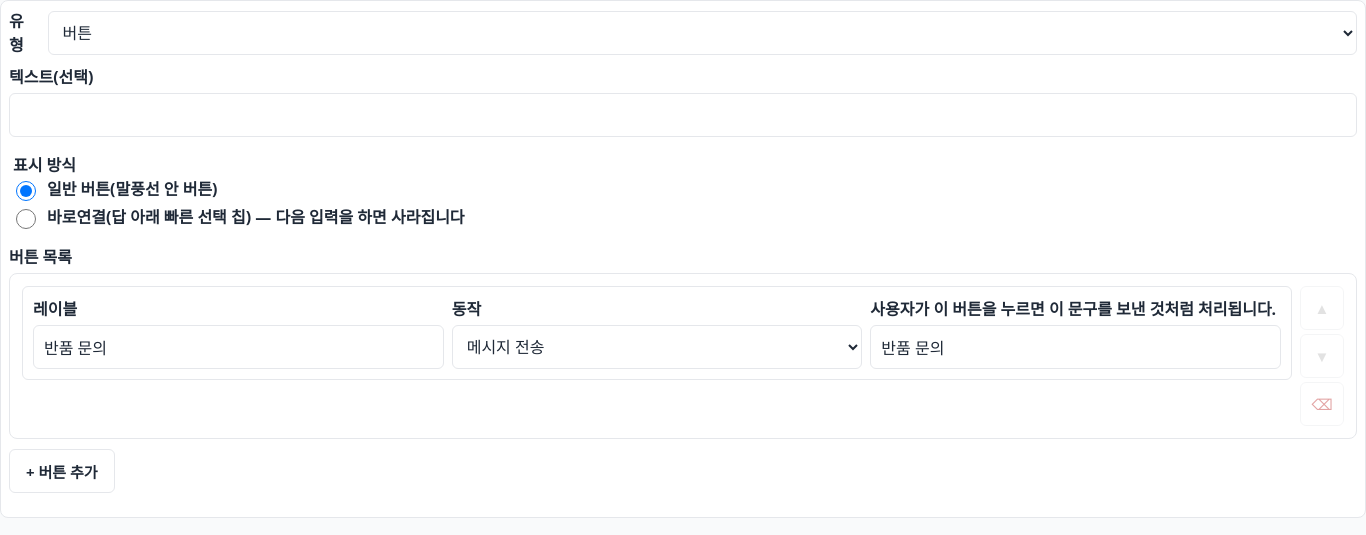
Test case: DialogOutputEditor — BUTTON 표시 방식(RM-2, 바로연결) › 바로연결을 선택하면 payload.display가 QUICK_REPLY로 바뀌고 LINK 옵션이 비활성된다
The width and height of the screenshot is (1366, 535).
Click the radio button labelled "바로연결(답 아래 빠른 선택 칩) — 다음 입력을 하면 사라집니다" at (26, 218), box 16,208 -> 36,228
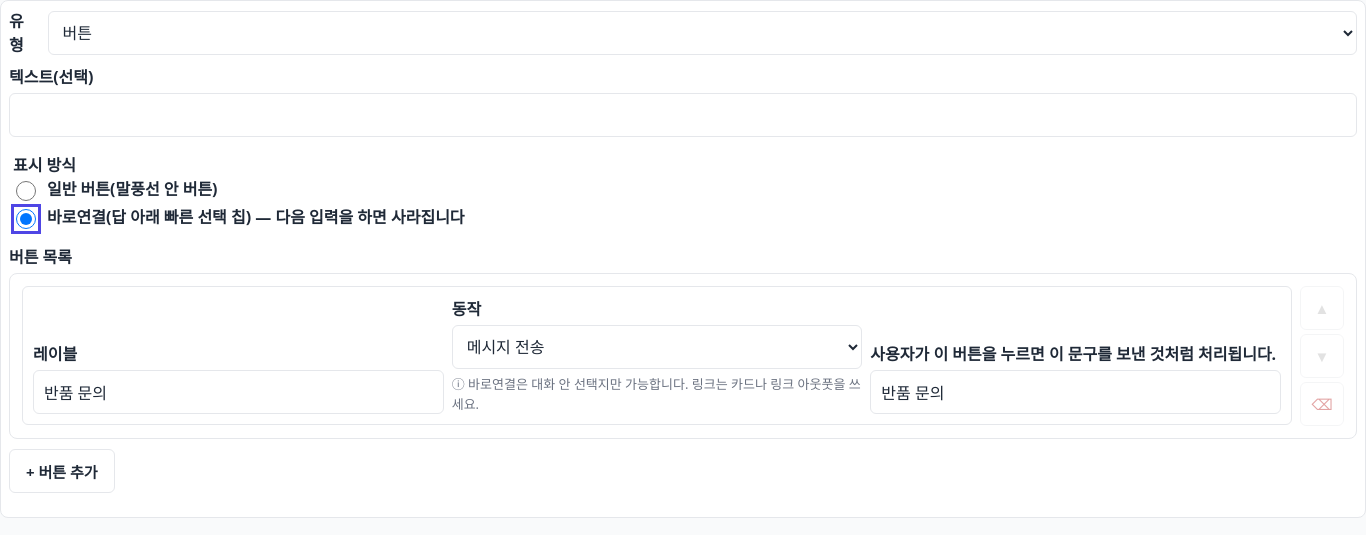
expect the text "ⓘ 바로연결은 대화 안 선택지만 가능합니다. 링크는 카드나 링크 아웃풋을 쓰세요." is shown: met, box 452,375 -> 862,414
